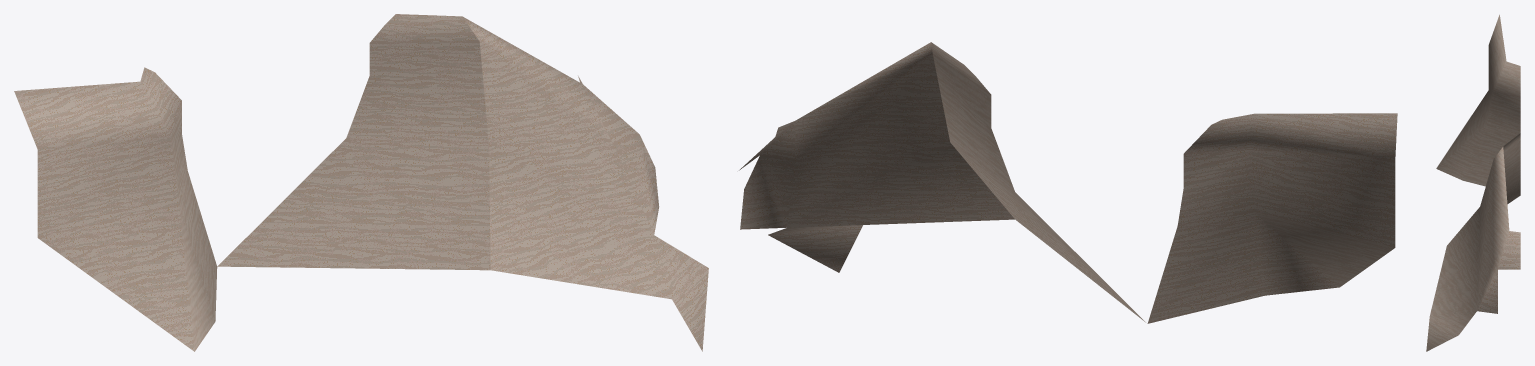
The model's file is kd_stage_13612f_2_0_bounded.glb.
3 renders of one model, left to right at view 1: azimuth 30°, elevation 25°; view 2: azimuth 150°, elevation 25°; view 3: azimuth 270°, elevation 25°, orthographic. The views are drawn at different scales.
Parts seen in each view (by area): view 1: kd_stage_13612f_2_0_bounded; view 2: kd_stage_13612f_2_0_bounded; view 3: kd_stage_13612f_2_0_bounded.
Part boxes in pixels (x1,y1,x2,y2): kd_stage_13612f_2_0_bounded: (14, 14, 708, 351); kd_stage_13612f_2_0_bounded: (739, 42, 1397, 323); kd_stage_13612f_2_0_bounded: (1426, 14, 1520, 351).
Bounding box in the file's own units: 93.23 × 48.82 × 22.73.
Materials: 1 (1 with a texture image).
